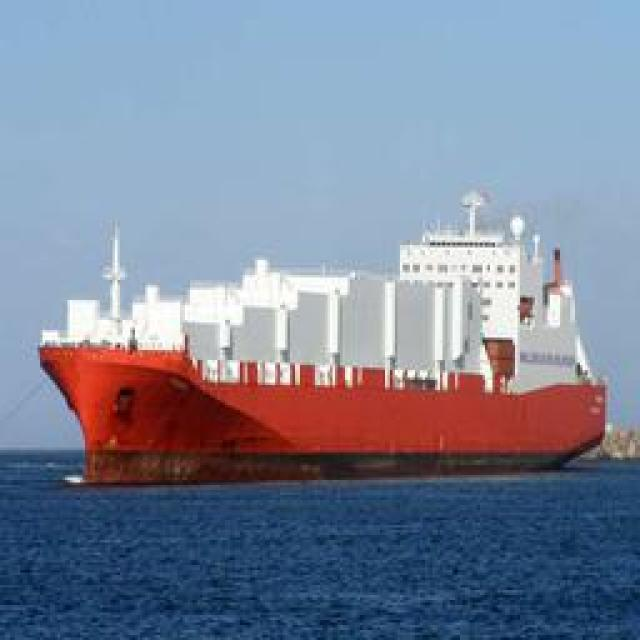CIV_Ship: (39, 205, 616, 478)
